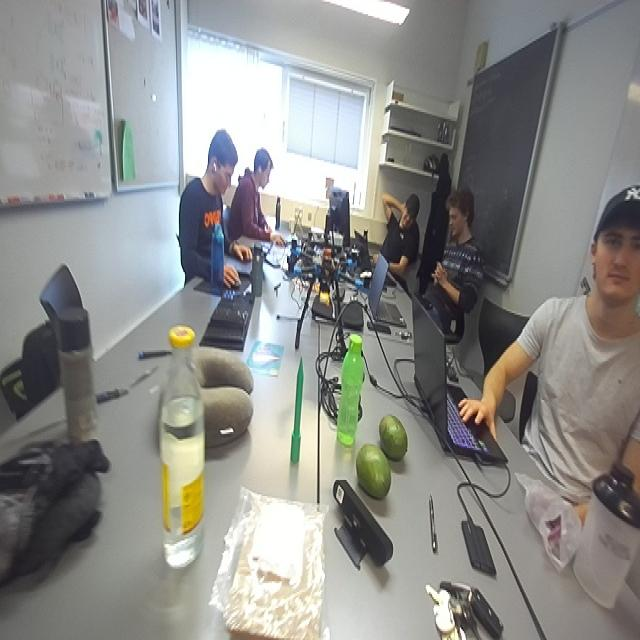probe: (290, 357, 303, 462)
